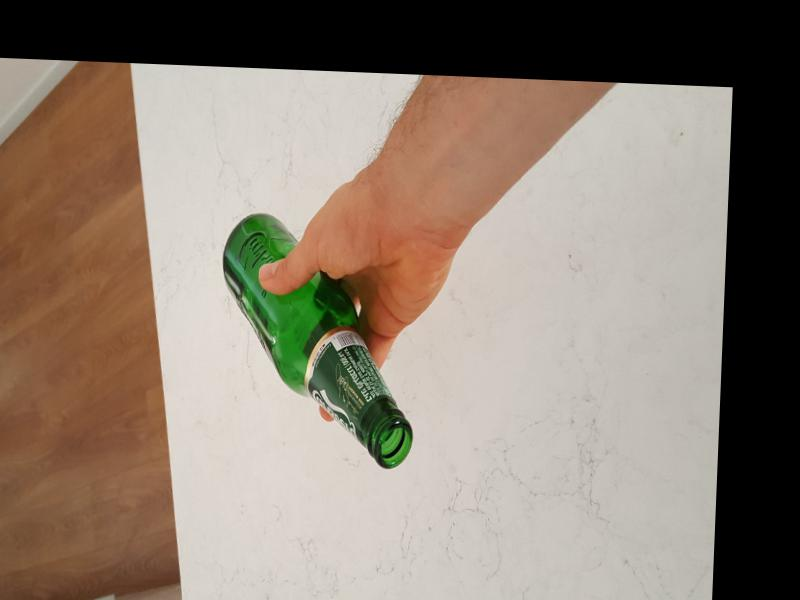Beer: (215, 214, 424, 472)
